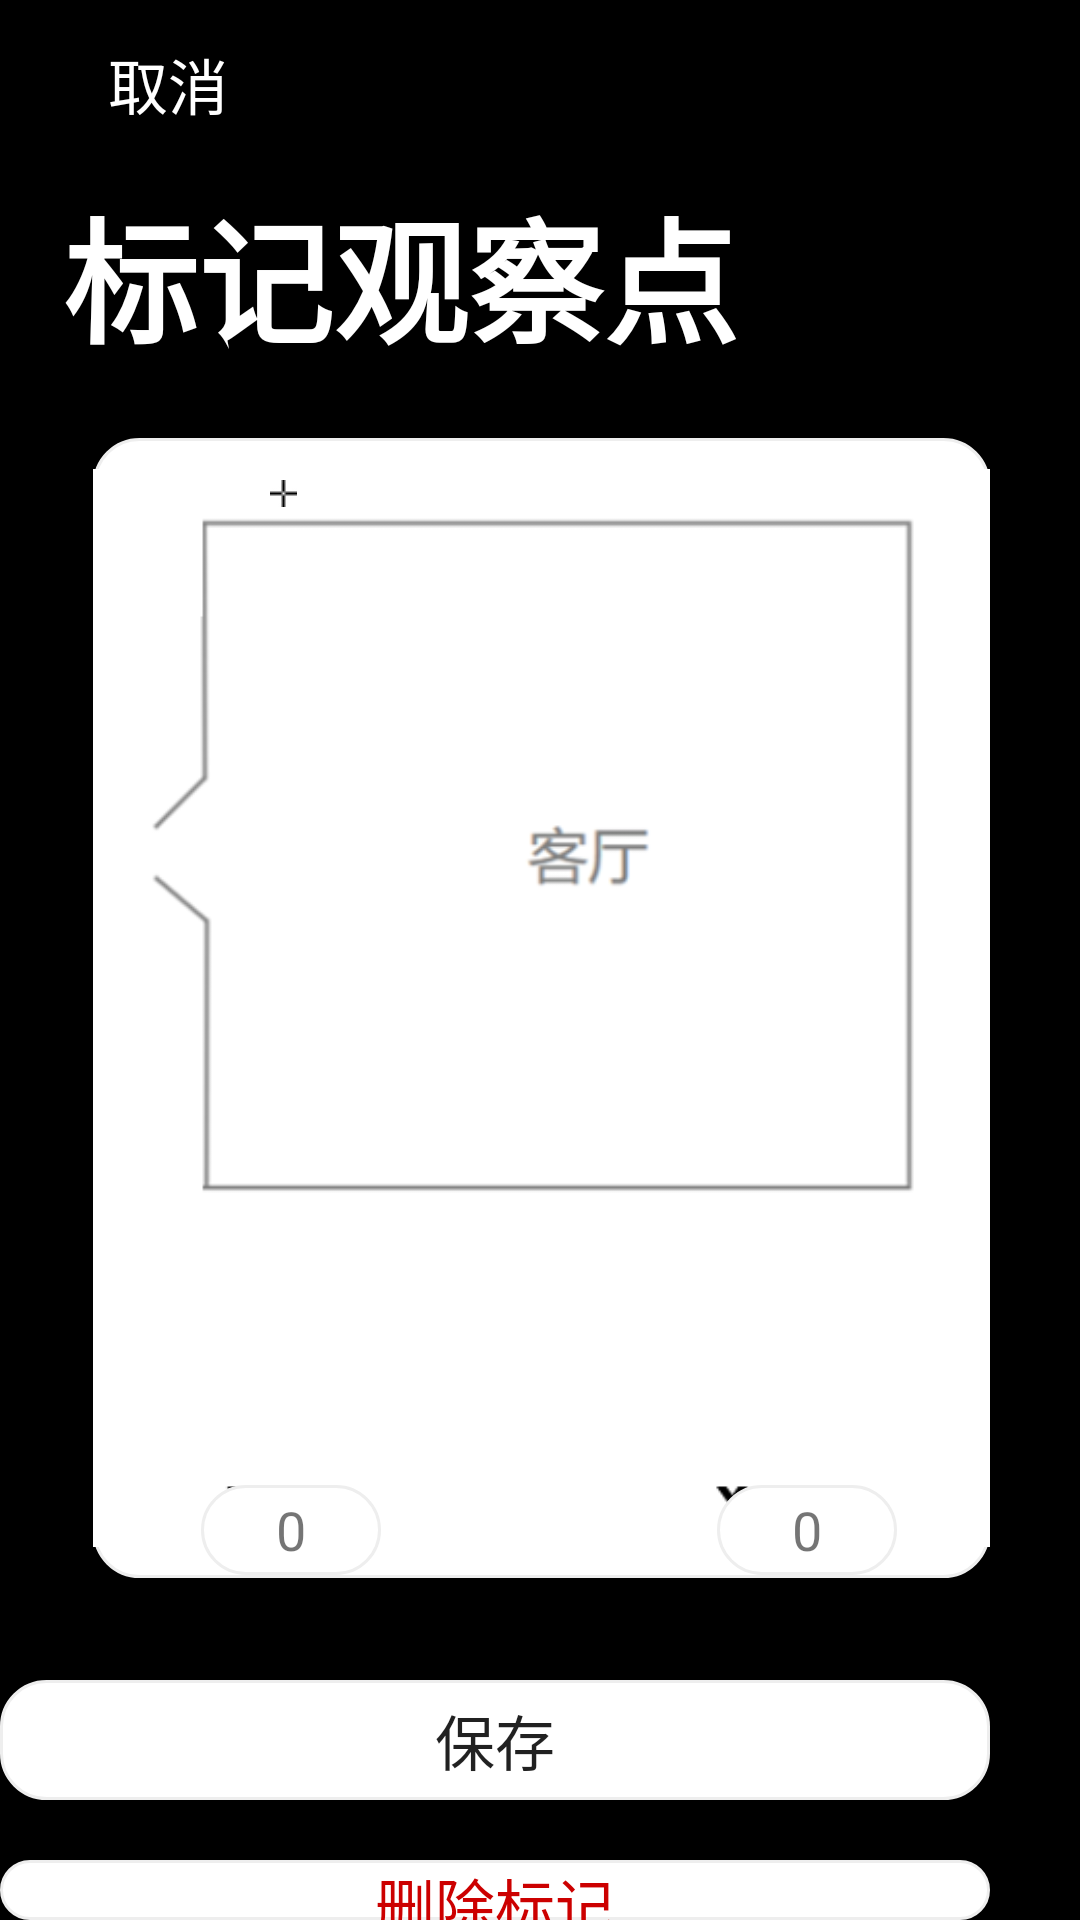

Icon bounding boxes for this 1080*1920 phone screenshot, format rect(x1, y1, x2, y2):
cross hair: rect(270, 480, 297, 507)
